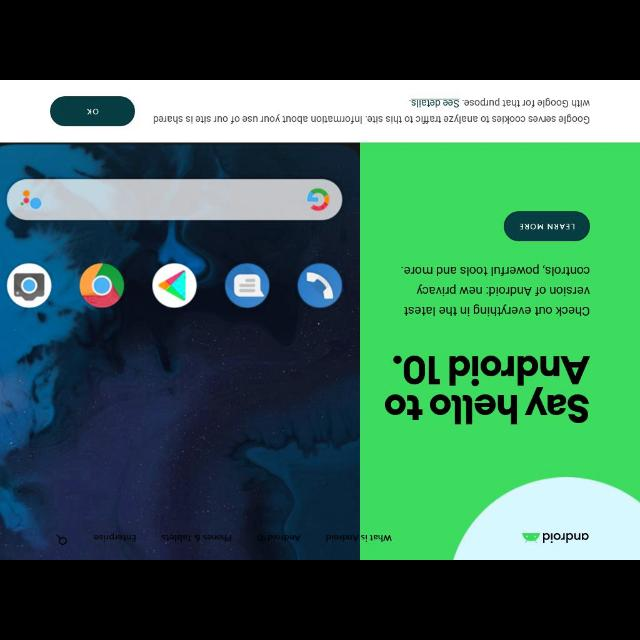backgroundimage: (1, 143, 360, 559)
icon: (54, 532, 68, 546)
image: (520, 530, 592, 548)
link: (409, 100, 459, 106)
multitab: (50, 532, 394, 548)
text: (380, 351, 594, 429), (150, 96, 590, 125), (398, 264, 592, 320), (161, 534, 233, 542), (520, 222, 576, 232), (324, 534, 392, 542), (92, 534, 136, 542), (266, 534, 302, 542), (85, 108, 99, 115)
textbutton: (502, 212, 594, 244), (49, 98, 134, 126)
